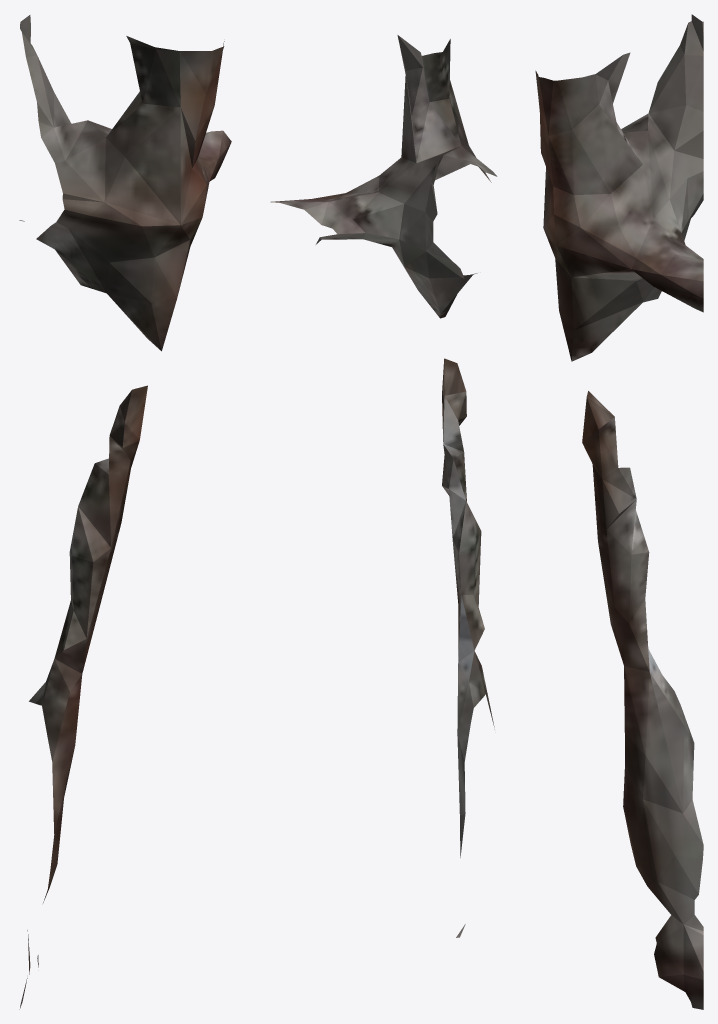
3 views of the same model, side by side, from view 1: azimuth 30°, elevation 25°; view 2: azimuth 150°, elevation 25°; view 3: azimuth 270°, elevation 25° (orthographic). The views are drawn at different scales.
Bounding box in the file's own units: 0.1426 × 0.62 × 0.0949.
1 material, 1 textured.
